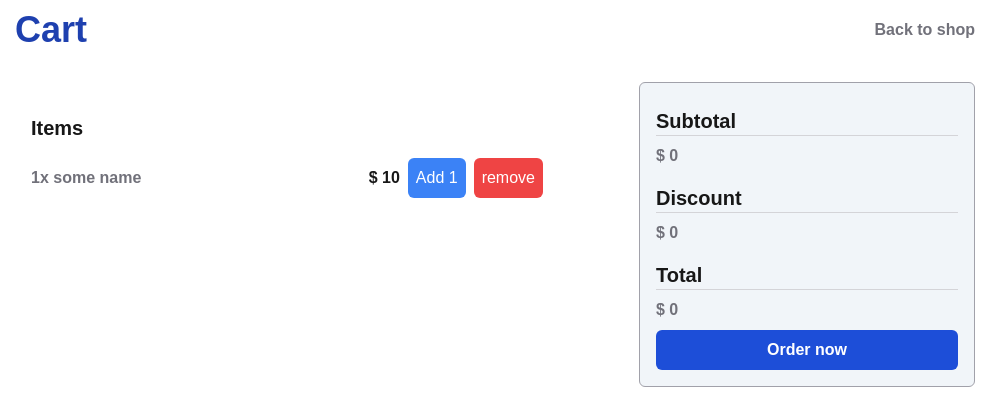
Test: <ShoppingCart /> › it updates the total items on cart when adding a new item on cart page
Click the button "Add 1" at (437, 178), box [408,158,466,198]
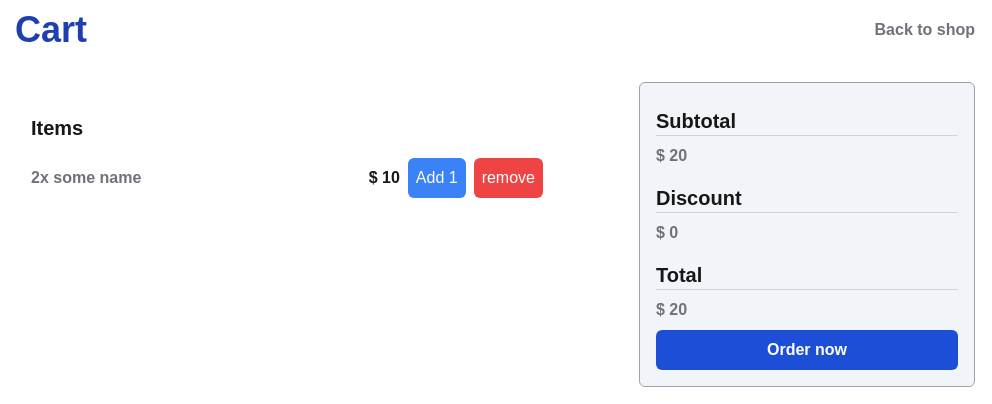
Expected: the text "2x some name" is shown, [31,166,141,190]
